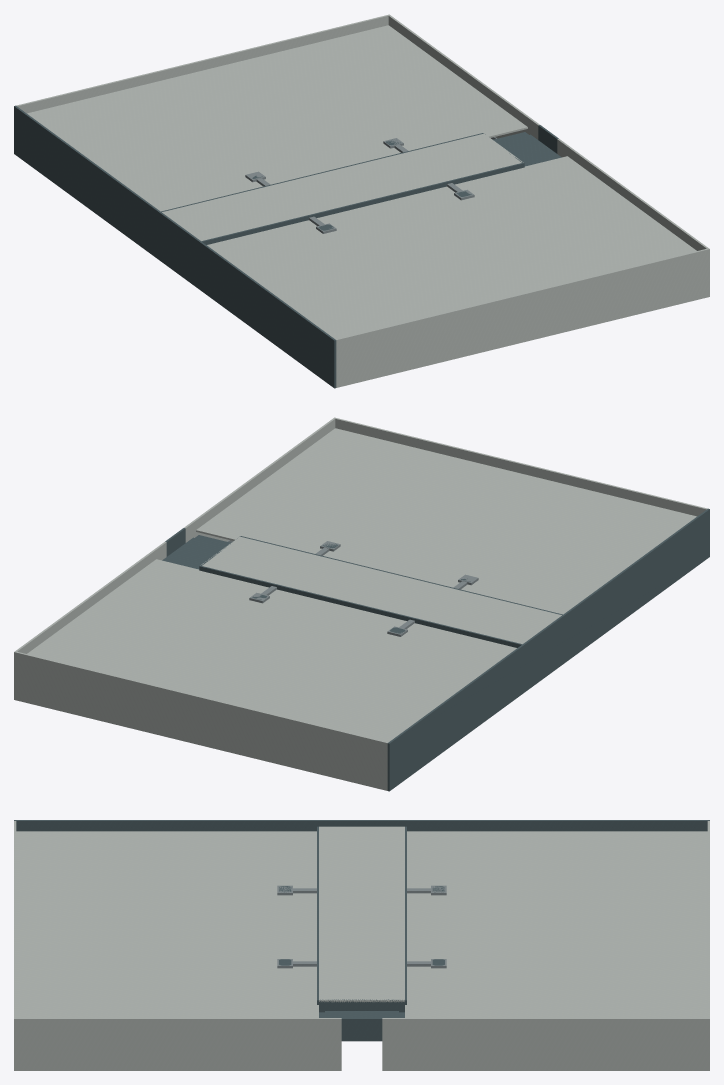
File: WP08_laundry_runtime_names001.glb
3 renders of one model, top to bottom at view 1: azimuth 30°, elevation 25°; view 2: azimuth 150°, elevation 25°; view 3: azimuth 270°, elevation 25°, orthographic. The views are drawn at different scales.
Visible parts, largest first — view 1: WP08N_00016, WP08N_00017, WP08N_00002, WP08N_00000, WP08N_00020, WP08N_00018, WP08N_00019, WP08N_00001, WP08N_00003, WP08N_00004, WP08N_00022, WP08N_00015; view 2: WP08N_00017, WP08N_00016, WP08N_00001, WP08N_00000, WP08N_00020, WP08N_00019, WP08N_00018, WP08N_00002, WP08N_00004, WP08N_00003, WP08N_00021, WP08N_00015; view 3: WP08N_00016, WP08N_00017, WP08N_00003, WP08N_00004, WP08N_00020, WP08N_00000, WP08N_00018, WP08N_00019, WP08N_00005, WP08N_00023, WP08N_00001, WP08N_00002 (+1 smaller).
Part boxes in pixels (x1=…): WP08N_00016: x1=27, y1=36, x2=478, y2=211; WP08N_00017: x1=207, y1=167, x2=652, y2=339; WP08N_00002: x1=335, y1=248, x2=707, y2=387; WP08N_00000: x1=14, y1=105, x2=336, y2=388; WP08N_00020: x1=162, y1=133, x2=523, y2=241; WP08N_00018: x1=345, y1=25, x2=527, y2=137; WP08N_00019: x1=524, y1=156, x2=696, y2=261; WP08N_00001: x1=16, y1=15, x2=388, y2=113; WP08N_00003: x1=388, y1=14, x2=539, y2=139; WP08N_00004: x1=557, y1=139, x2=709, y2=297; WP08N_00022: x1=201, y1=162, x2=524, y2=244; WP08N_00015: x1=497, y1=134, x2=561, y2=166; WP08N_00017: x1=245, y1=439, x2=696, y2=614; WP08N_00016: x1=71, y1=570, x2=516, y2=742; WP08N_00001: x1=16, y1=651, x2=388, y2=790; WP08N_00000: x1=387, y1=508, x2=709, y2=791; WP08N_00020: x1=200, y1=536, x2=561, y2=644; WP08N_00019: x1=196, y1=428, x2=378, y2=540; WP08N_00018: x1=27, y1=559, x2=199, y2=664; WP08N_00002: x1=335, y1=418, x2=707, y2=516; WP08N_00004: x1=184, y1=417, x2=335, y2=542; WP08N_00003: x1=14, y1=542, x2=166, y2=700; WP08N_00021: x1=199, y1=565, x2=522, y2=647; WP08N_00015: x1=162, y1=537, x2=226, y2=569; WP08N_00016: x1=407, y1=831, x2=707, y2=1004; WP08N_00017: x1=16, y1=831, x2=316, y2=1004; WP08N_00003: x1=382, y1=1018, x2=709, y2=1070; WP08N_00004: x1=14, y1=1018, x2=341, y2=1070; WP08N_00020: x1=319, y1=826, x2=404, y2=1002; WP08N_00000: x1=14, y1=820, x2=709, y2=831; WP08N_00018: x1=405, y1=1005, x2=707, y2=1017; WP08N_00019: x1=16, y1=1005, x2=318, y2=1017; WP08N_00005: x1=341, y1=1018, x2=382, y2=1041; WP08N_00023: x1=319, y1=999, x2=404, y2=1012; WP08N_00001: x1=707, y1=821, x2=709, y2=1017; WP08N_00002: x1=14, y1=821, x2=16, y2=1017.
Bounding box in the file's own units: 46 × 5.6 × 68.
46 materials, 46 textured.
